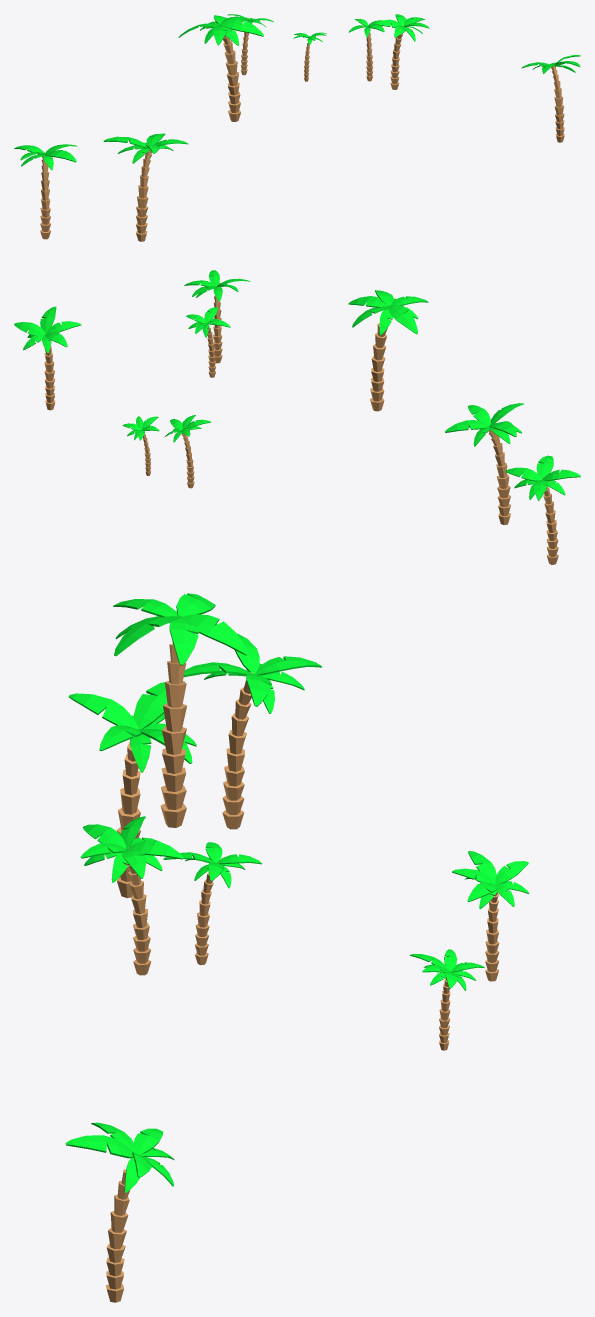
File: SpecialProps.glb
3 views of the same model, one above another, from view 1: azimuth 30°, elevation 25°; view 2: azimuth 150°, elevation 25°; view 3: azimuth 270°, elevation 25° (orthographic). The views are drawn at different scales.
Parts seen in each view (by area): view 1: Palmtree.065, Palmtree.161, Palmtree.177, Palmtree.145, Palmtree.113, Palmtree.070; view 2: Palmtree.065, Palmtree.161, Palmtree.177, Palmtree.145, Palmtree.068, Palmtree.113; view 3: Palmtree.065, Palmtree.177, Palmtree.145, Palmtree.161, Palmtree.113, Palmtree.162, Palmtree.066, Palmtree.167, Palmtree.036, Palmtree.079, Palmtree.002, Palmtree.151.
Boxes of the visible parts, x1,y1,x2,y2 form: Palmtree.065: (223,35,240,121); Palmtree.161: (136,150,151,241); Palmtree.177: (40,156,50,239); Palmtree.145: (551,66,564,142); Palmtree.113: (390,25,403,89); Palmtree.070: (220,19,263,36); Palmtree.065: (370,323,387,411); Palmtree.161: (488,429,510,524); Palmtree.177: (542,478,558,564); Palmtree.145: (44,340,55,410); Palmtree.068: (388,305,417,334); Palmtree.113: (213,286,222,363); Palmtree.065: (160,641,186,827); Palmtree.177: (222,672,253,829); Palmtree.145: (106,1169,130,1302); Palmtree.161: (116,726,140,898); Palmtree.113: (126,847,151,975); Palmtree.162: (68,693,138,729); Palmtree.066: (183,614,247,655); Palmtree.167: (133,681,185,729); Palmtree.036: (195,872,213,964); Palmtree.079: (169,615,198,665); Palmtree.002: (485,891,499,981); Palmtree.151: (65,1135,133,1158).
Size of the model in its own units: 16.79 by 5.63 by 6.28.
